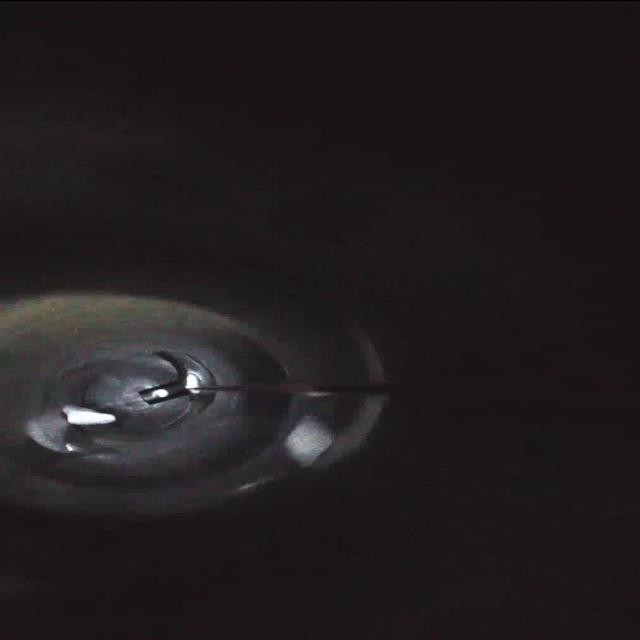impurity: (55, 399, 121, 428)
